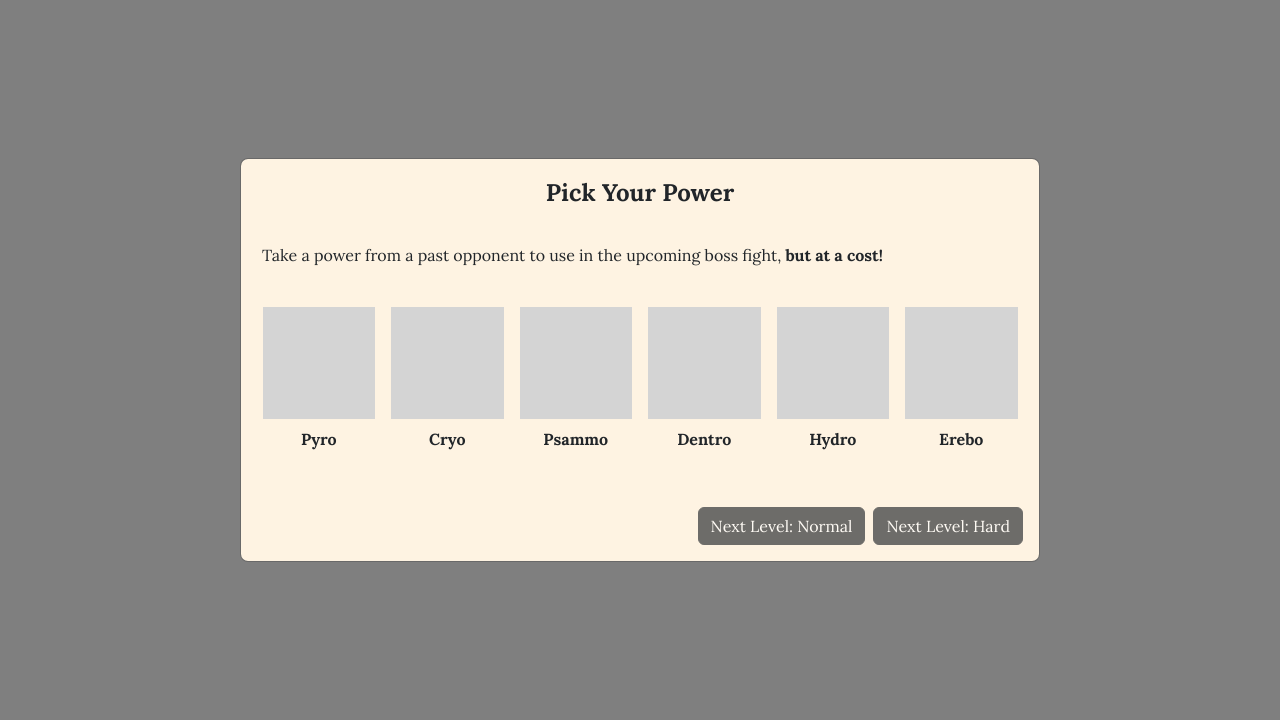
Scenario: SelectPowerModal › selects a power on click and enables next level buttons
Click the element showing "Pyro" at (319, 387), box [254, 299, 383, 475]
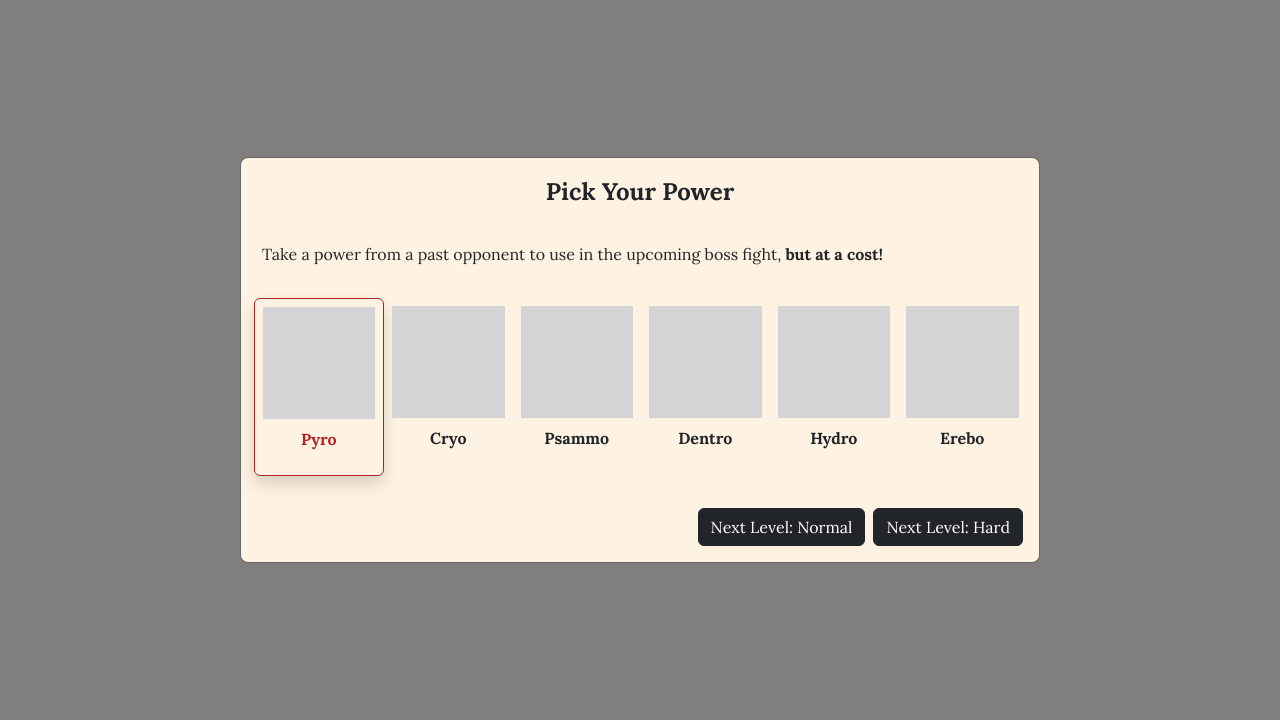
Expected: the button "Next Level: Normal" is enabled, [698, 508, 865, 546]
Expected: the button "Next Level: Hard" is enabled, [873, 508, 1023, 546]
